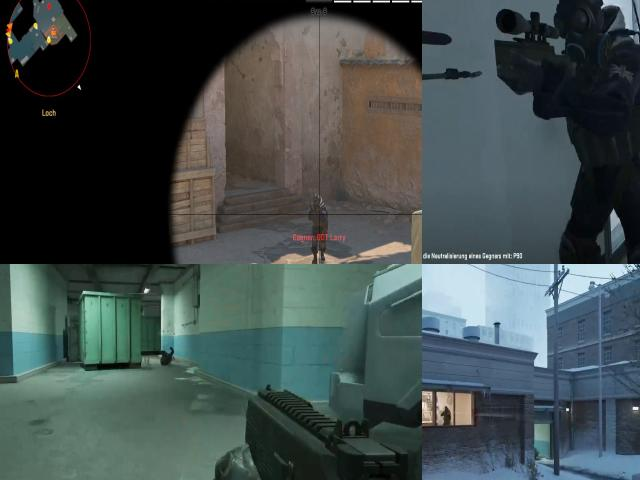CT: (555, 0, 640, 160), (310, 190, 327, 264), (442, 405, 452, 424)
CT-Head: (553, 0, 610, 61), (312, 193, 322, 207), (442, 406, 449, 415)
Dead: (156, 346, 180, 370)
